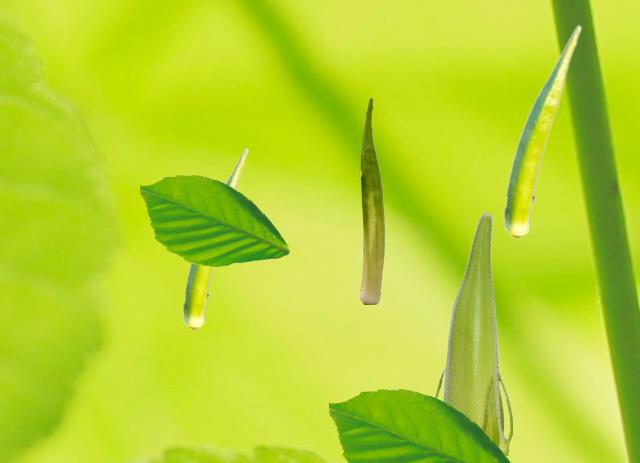okra: (434, 211, 511, 454), (503, 24, 581, 239), (182, 147, 248, 330), (359, 97, 384, 303)
